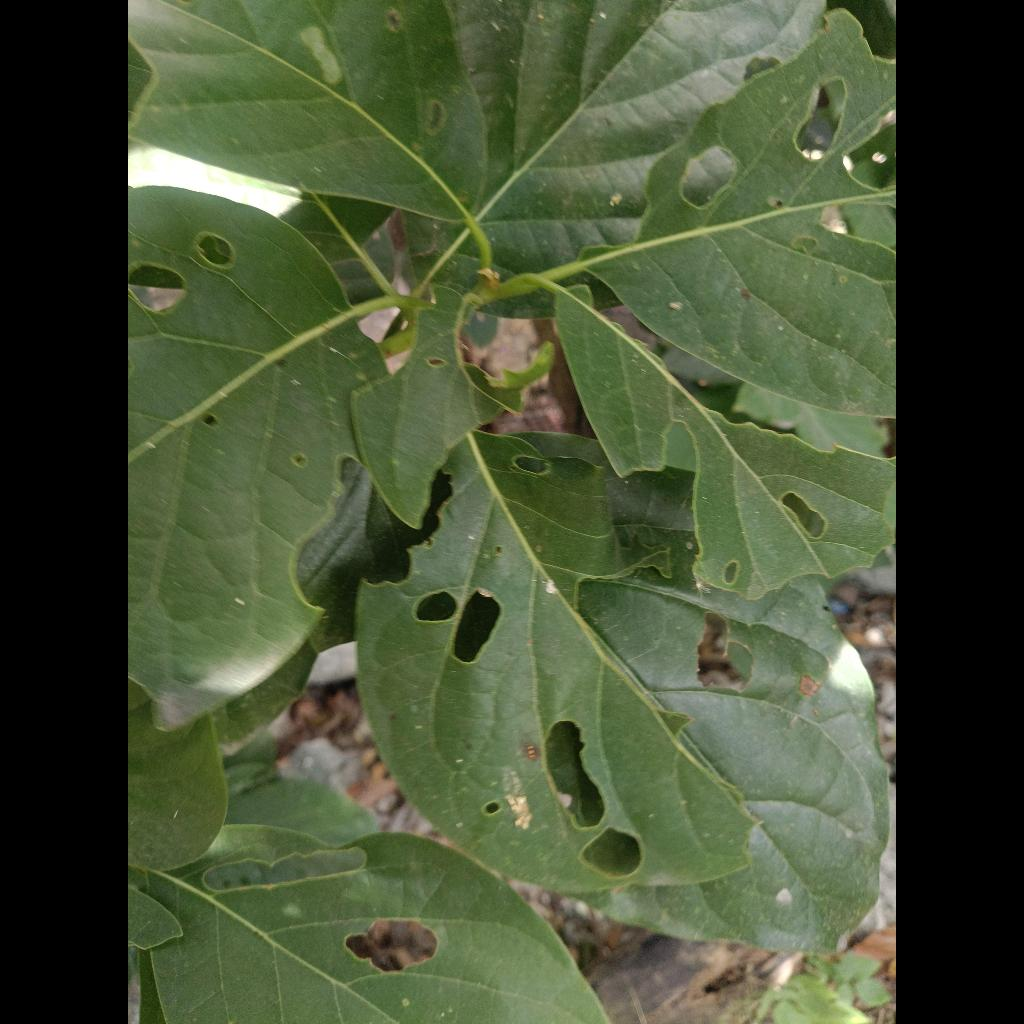Pest Infested: (358, 434, 752, 896)
